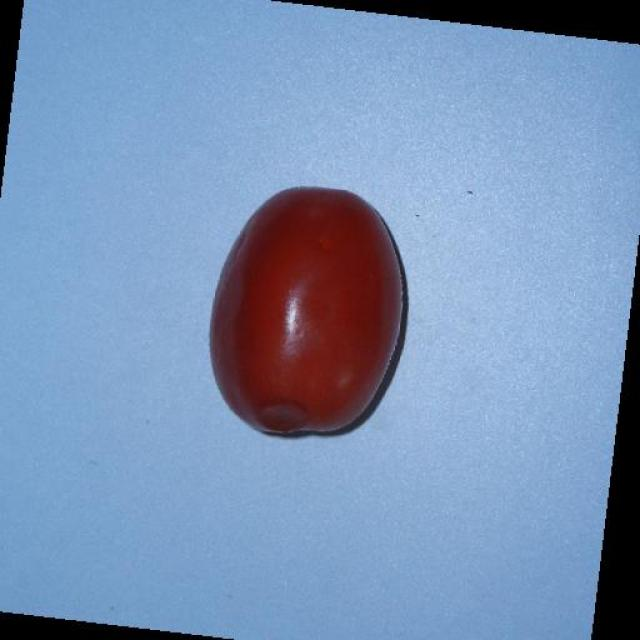Stale_tomato: (212, 167, 424, 464)
